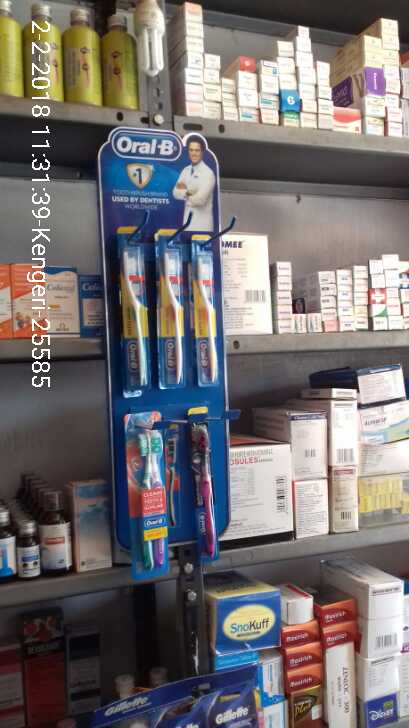oralb: (121, 411, 170, 573), (117, 226, 151, 392), (187, 404, 221, 562), (156, 228, 185, 390), (192, 235, 220, 385)
